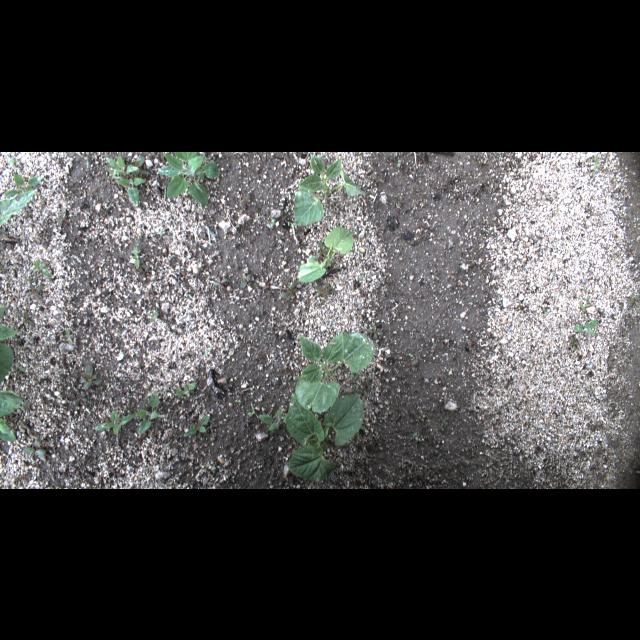crop: (286, 392, 364, 482), (293, 330, 375, 412), (294, 151, 368, 225), (297, 226, 353, 282), (1, 305, 22, 383), (1, 188, 36, 226), (1, 391, 25, 442)
weed: (157, 152, 220, 208), (134, 390, 170, 434), (94, 410, 136, 434), (3, 172, 43, 196), (258, 408, 294, 430), (118, 176, 146, 204), (105, 154, 134, 180), (78, 364, 104, 390), (183, 413, 211, 437), (23, 436, 47, 460), (126, 154, 152, 173), (32, 257, 52, 279), (574, 318, 598, 336), (173, 381, 197, 397), (280, 280, 298, 300), (366, 322, 384, 340), (316, 240, 332, 260), (247, 400, 259, 426), (270, 279, 292, 293), (356, 380, 372, 398), (298, 255, 316, 269), (402, 358, 420, 372), (24, 283, 44, 295), (84, 156, 96, 176), (13, 472, 32, 484), (22, 310, 36, 326), (72, 392, 88, 406), (213, 275, 229, 289), (314, 282, 330, 296), (130, 246, 140, 268), (146, 309, 162, 321), (56, 210, 68, 226), (240, 272, 252, 288), (351, 424, 365, 436), (358, 272, 372, 284), (63, 328, 73, 344), (239, 192, 251, 205), (108, 466, 120, 478), (626, 294, 638, 306), (81, 385, 95, 395), (569, 336, 579, 350), (204, 340, 212, 356), (182, 349, 196, 358), (6, 156, 18, 166), (372, 172, 384, 182), (262, 278, 272, 290), (243, 415, 253, 427), (366, 376, 374, 390), (350, 368, 360, 378), (580, 302, 590, 312), (439, 416, 449, 426), (26, 274, 38, 282), (593, 156, 599, 170), (17, 364, 27, 372), (158, 226, 166, 234), (412, 432, 420, 440), (210, 464, 216, 474), (270, 218, 276, 226), (328, 286, 336, 292), (396, 159, 402, 167), (584, 296, 592, 302), (434, 453, 442, 459), (541, 307, 547, 315), (292, 222, 298, 228), (418, 415, 424, 421), (408, 352, 414, 358), (431, 339, 435, 346), (286, 220, 290, 226), (406, 401, 412, 405), (467, 301, 473, 305), (236, 399, 240, 403), (105, 206, 111, 208)
